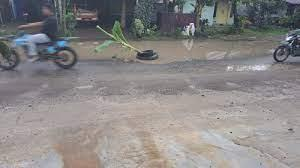Pothole: (0, 83, 298, 168), (65, 39, 290, 59), (218, 58, 300, 80)
